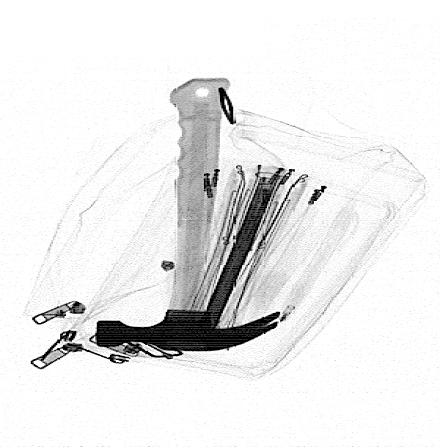Hammer: (94, 77, 281, 352)
